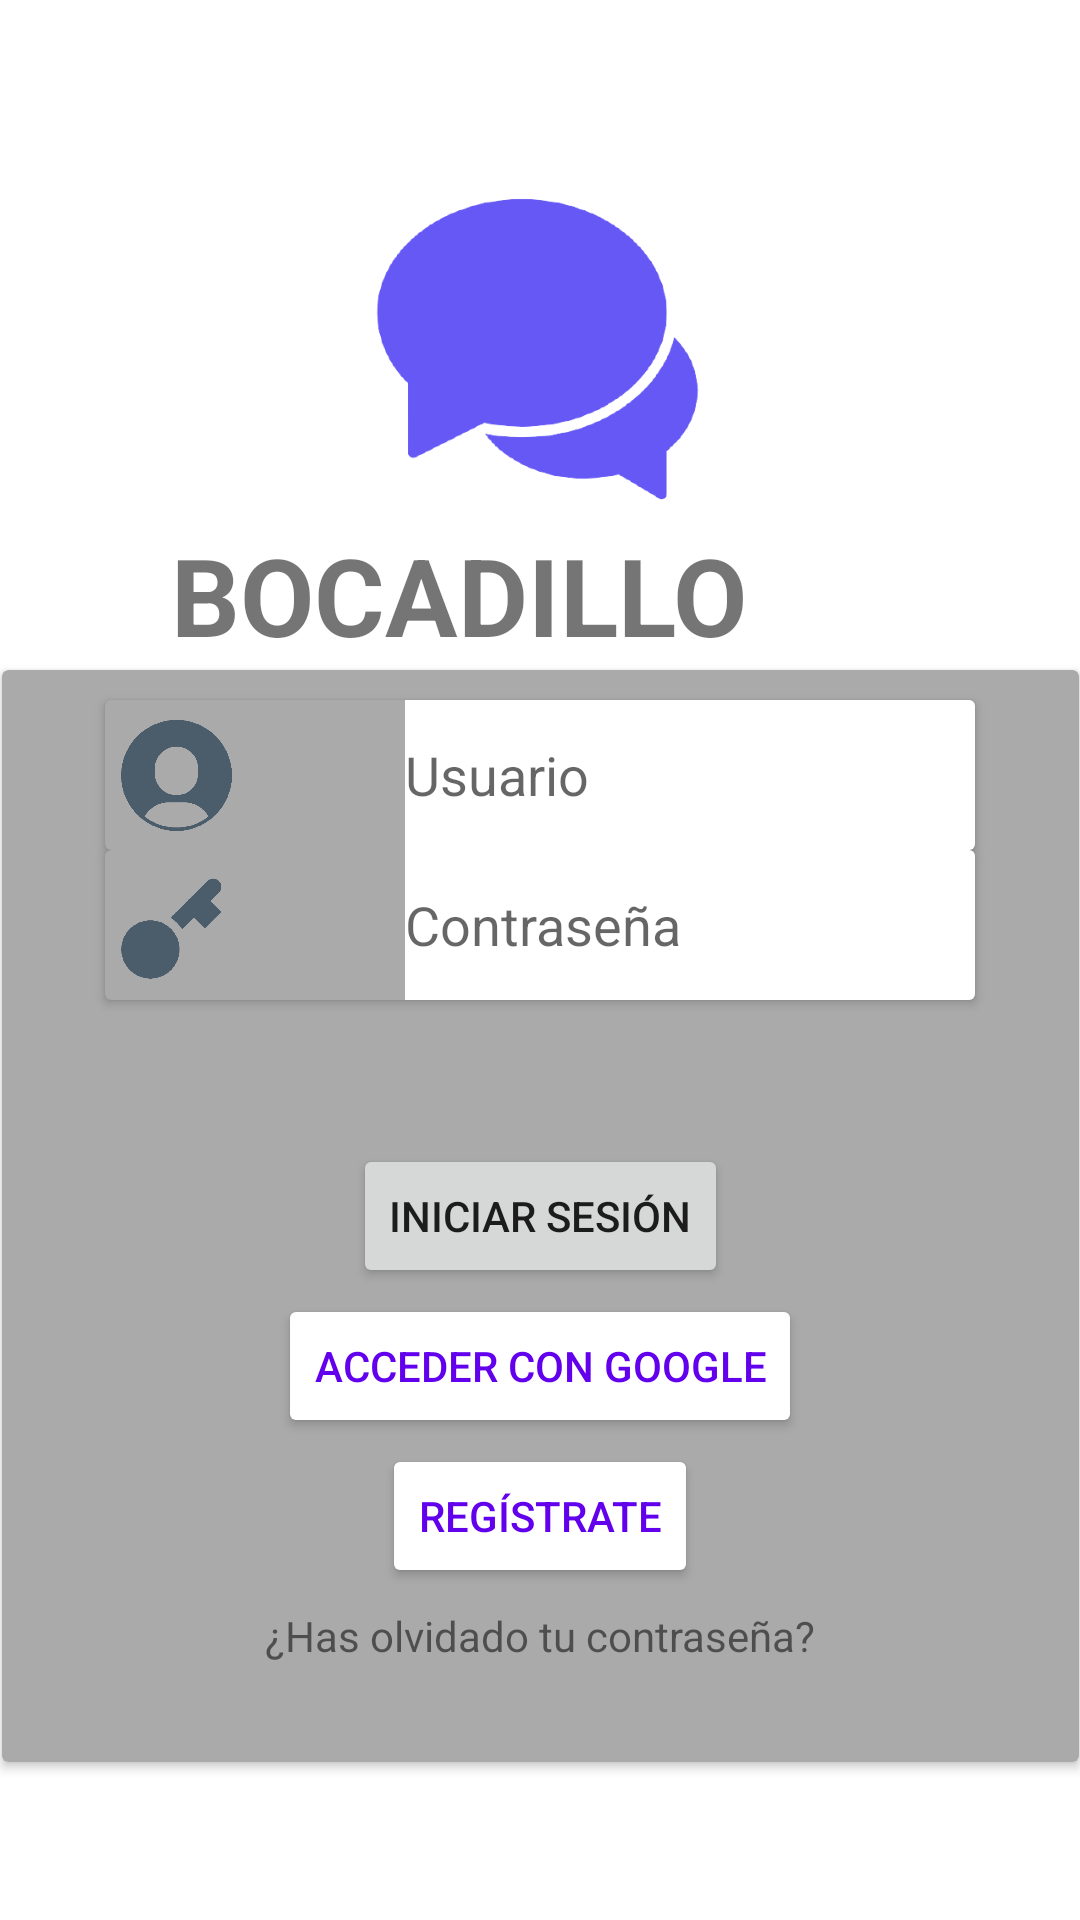

Where to tap for icons on this 1080x1920 app screen, as point (x, y):
pass: point (164, 914)
user: point (169, 785)
